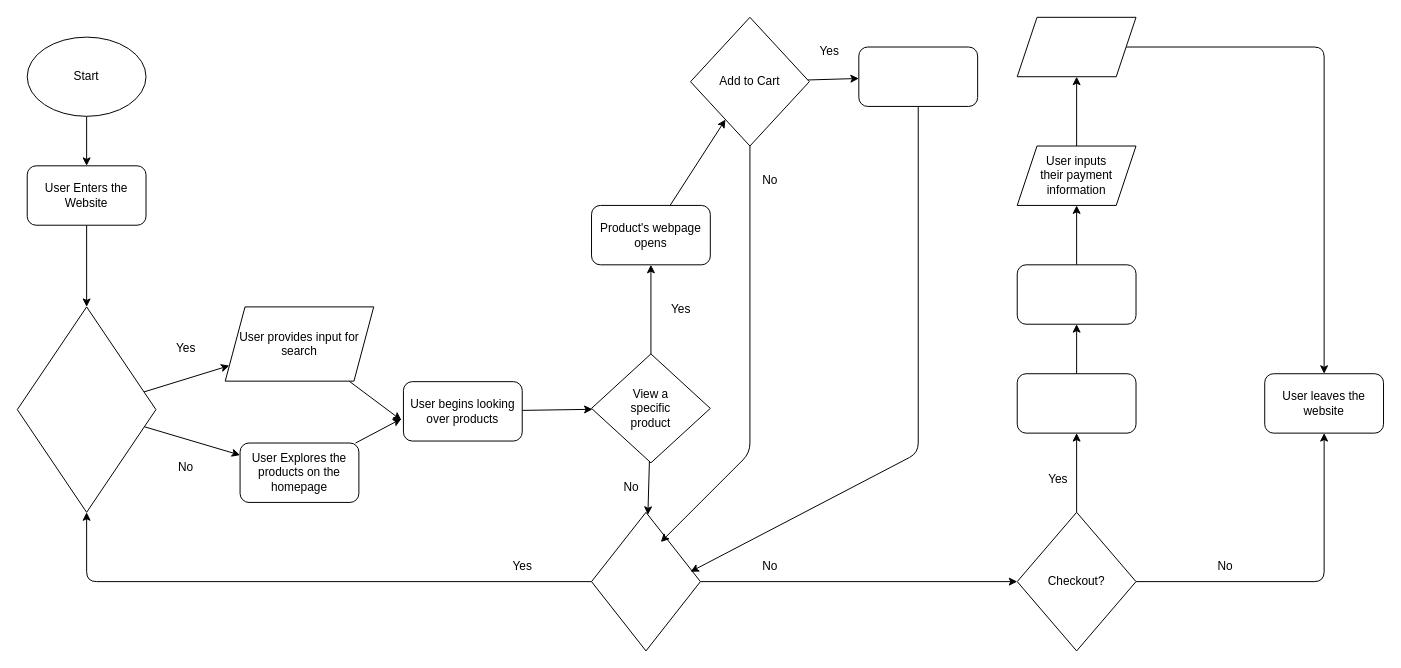
Image size: 1401x668. Some labels were removed from this diagram. Here are the shapes that lost their labels. From the top down, the box of each, then its label:
(1016, 16, 1136, 77): Order confirmation screen and email sent to user
(858, 46, 978, 106): Added to Cart Confirmation
(1016, 264, 1136, 324): View Paymemt Screen
(16, 306, 156, 512): Search for a product on the home page
(1016, 373, 1136, 433): View Cart Screen
(591, 511, 700, 651): Continue shopping?
